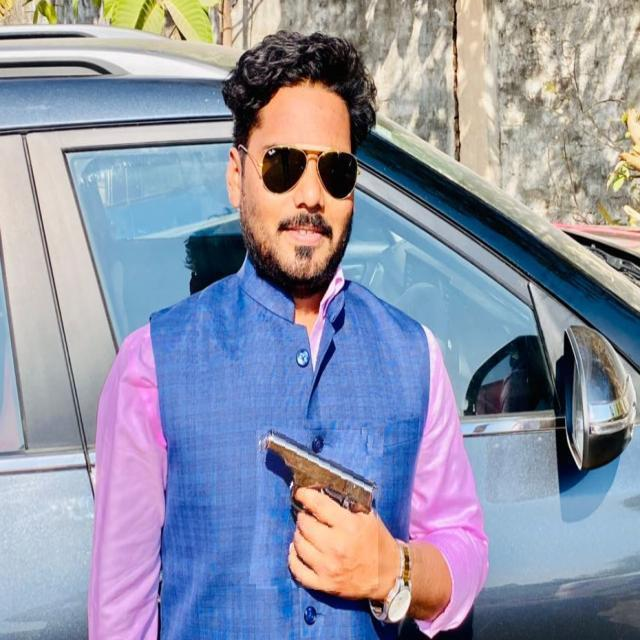Handgun: (253, 428, 382, 592)
